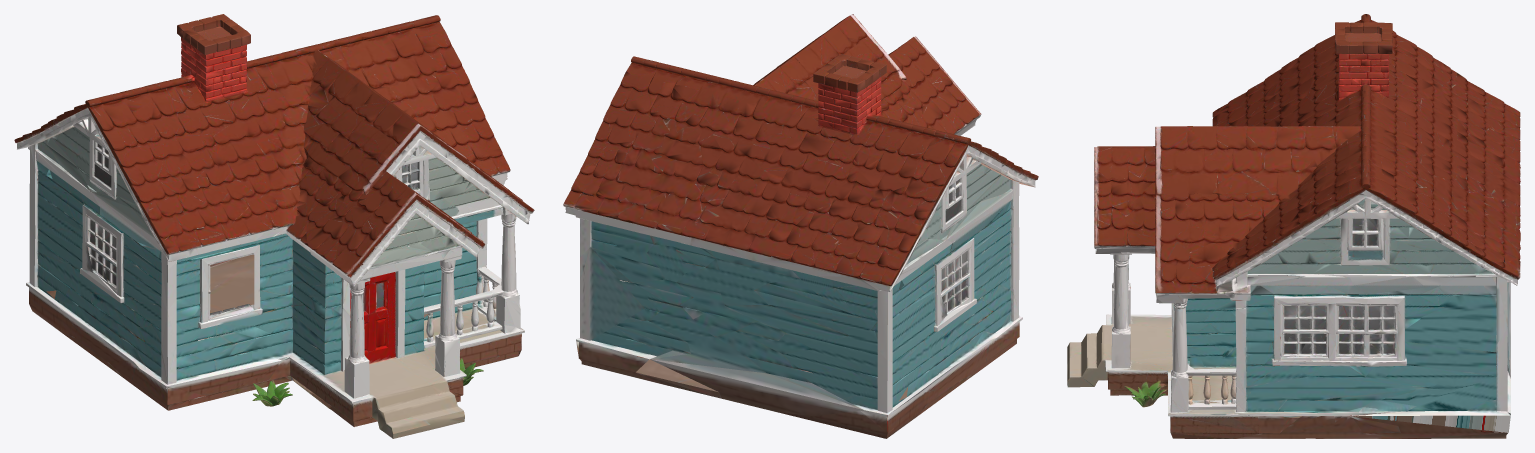
File: house.glb
3 renders of one model, left to right at view 1: azimuth 30°, elevation 25°; view 2: azimuth 150°, elevation 25°; view 3: azimuth 270°, elevation 25°, orthographic. The views are drawn at different scales.
Bounding box in the file's own units: 1.69 × 1.41 × 1.9.
1 material, 1 textured.
